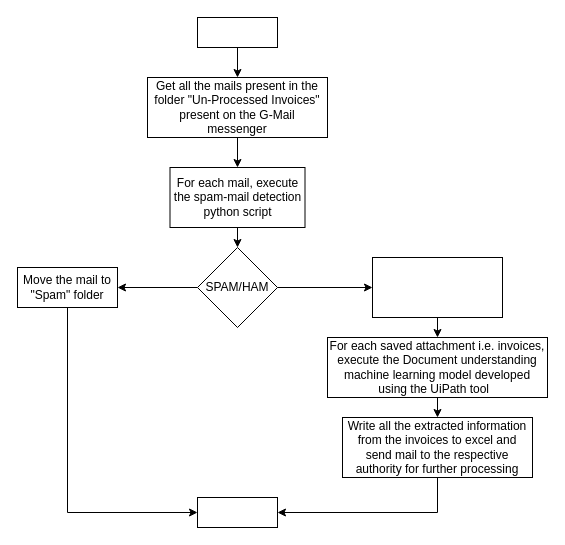
Image size: 565x545. Some labels were removed from this diagram. The centre of each missing label's shape, as x and y in pixels:
END: point 237,512
Save the attached invoice and move the mail to "Processed Invoices" folder: point 437,287
START: point 237,32
